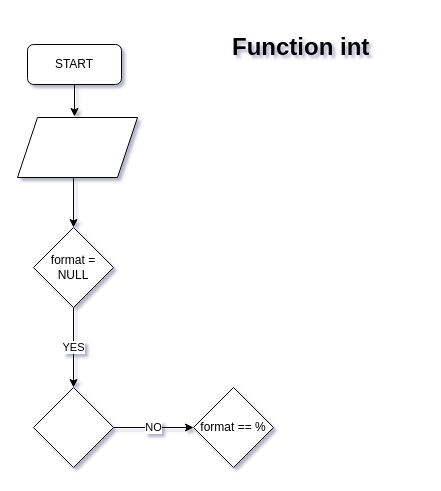
Image size: 441x491. Some labels were removed from this diagram. The shapes that lost their labels are listed below. From the top down, each one's centre as x and y in pixels, then its label:
point 77,147: %c %s %d
point 73,427: format [i] = NULL
